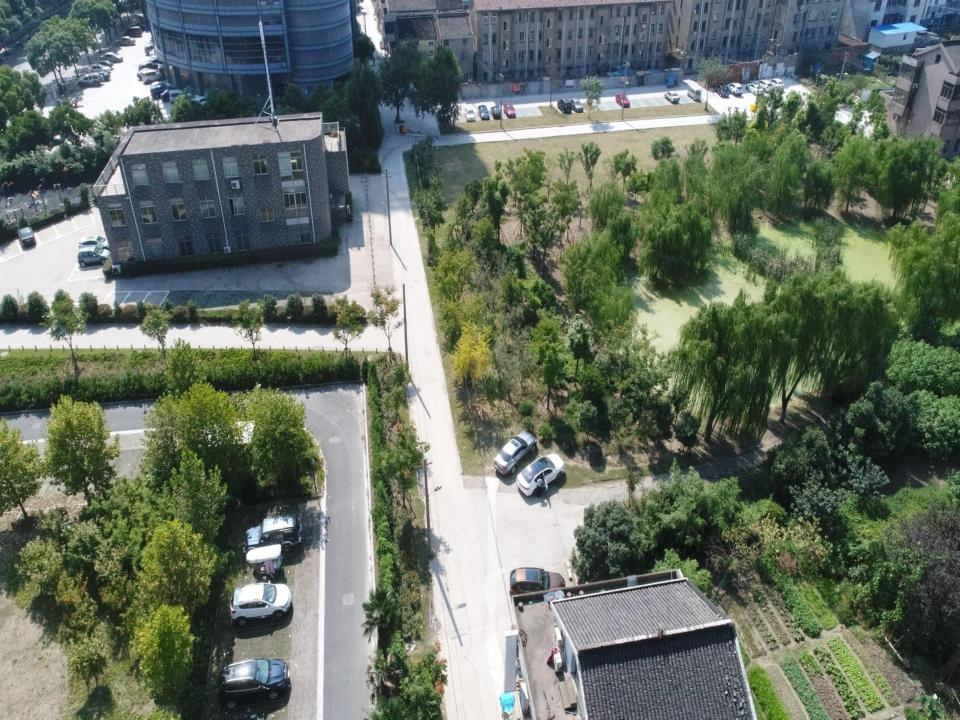car: (217, 656, 290, 708), (230, 581, 291, 627), (242, 512, 303, 554), (516, 452, 566, 498), (493, 428, 537, 476), (509, 565, 566, 598), (76, 247, 110, 269), (78, 233, 109, 250), (17, 225, 36, 248), (150, 84, 177, 99), (160, 88, 181, 102), (136, 67, 158, 80), (100, 51, 123, 63), (138, 62, 161, 74), (746, 81, 763, 96), (88, 63, 110, 74), (116, 35, 136, 47), (726, 81, 742, 96), (713, 83, 729, 97), (124, 25, 142, 37), (502, 102, 515, 118), (664, 90, 680, 103), (616, 93, 630, 107), (758, 78, 772, 92), (478, 104, 490, 120), (490, 105, 503, 119), (464, 106, 476, 121), (770, 78, 784, 90), (92, 71, 109, 79), (98, 59, 113, 67)
van: (168, 89, 188, 104), (142, 70, 163, 84), (82, 72, 100, 86), (556, 99, 572, 114), (686, 86, 702, 101), (194, 95, 211, 107), (571, 97, 583, 112)
